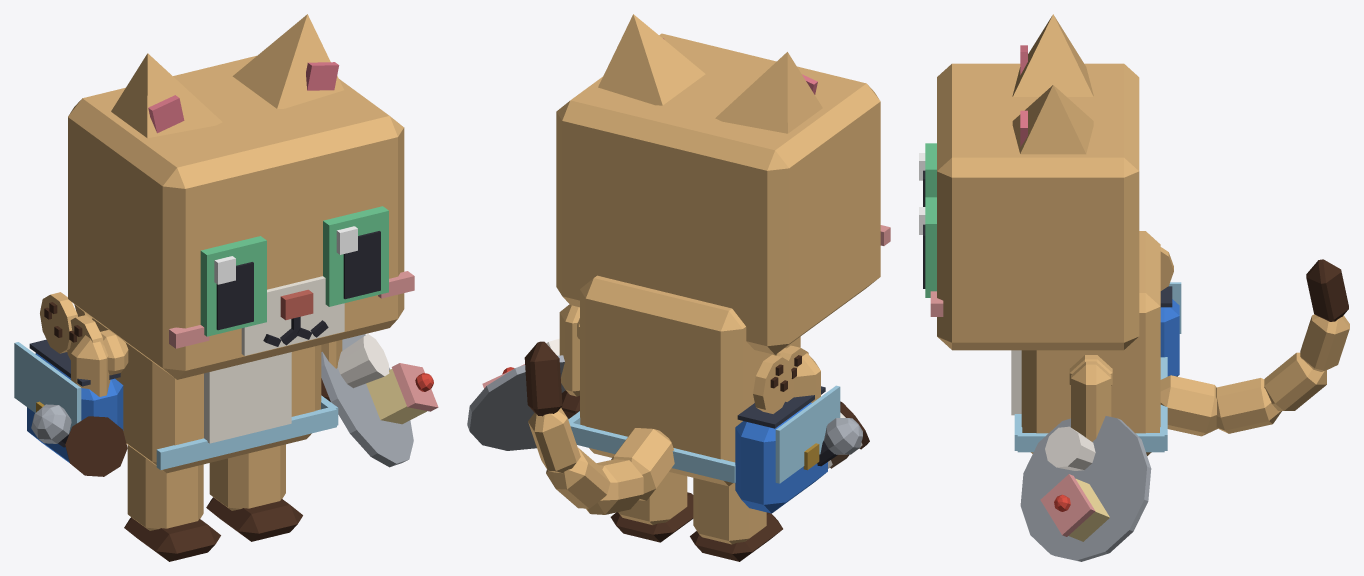
The model's file is CatCafe_Cat_Biscuit_Work.glb.
3 renders of one model, left to right at view 1: azimuth 30°, elevation 25°; view 2: azimuth 150°, elevation 25°; view 3: azimuth 270°, elevation 25°, orthographic. The views are drawn at different scales.
Visible parts, largest first — view 1: CatCafe_Cat_Biscuit_Work_Head, CatCafe_Cat_Biscuit_Work_Body, CatCafe_Cat_Biscuit_Work_Held_Waiter, CatCafe_Cat_Biscuit_Work_LegB2, CatCafe_Cat_Biscuit_Work_LegB1, CatCafe_Cat_Biscuit_Work_Eye2, CatCafe_Cat_Biscuit_Work_Eye1, CatCafe_Cat_Biscuit_Work_EarL, CatCafe_Cat_Biscuit_Work_EarR, CatCafe_Cat_Biscuit_Work_Held_Barista, CatCafe_Cat_Biscuit_Work_LegF2, CatCafe_Cat_Biscuit_Work_Held_Entertainer; view 2: CatCafe_Cat_Biscuit_Work_Head, CatCafe_Cat_Biscuit_Work_Body, CatCafe_Cat_Biscuit_Work_Tail, CatCafe_Cat_Biscuit_Work_EarL, CatCafe_Cat_Biscuit_Work_LegB2, CatCafe_Cat_Biscuit_Work_EarR, CatCafe_Cat_Biscuit_Work_Held_Waiter, CatCafe_Cat_Biscuit_Work_LegB1, CatCafe_Cat_Biscuit_Work_LegF1, CatCafe_Cat_Biscuit_Work_Held_Entertainer, CatCafe_Cat_Biscuit_Work_LegF2; view 3: CatCafe_Cat_Biscuit_Work_Head, CatCafe_Cat_Biscuit_Work_Body, CatCafe_Cat_Biscuit_Work_Held_Waiter, CatCafe_Cat_Biscuit_Work_Tail, CatCafe_Cat_Biscuit_Work_EarL, CatCafe_Cat_Biscuit_Work_EarR, CatCafe_Cat_Biscuit_Work_LegF1, CatCafe_Cat_Biscuit_Work_Eye1, CatCafe_Cat_Biscuit_Work_Eye2.
Part boxes in pixels (x1,y1,x2,y2): CatCafe_Cat_Biscuit_Work_Head: (68,55,414,379); CatCafe_Cat_Biscuit_Work_Body: (14,292,338,473); CatCafe_Cat_Biscuit_Work_Held_Waiter: (321,334,438,467); CatCafe_Cat_Biscuit_Work_LegB2: (124,445,220,561); CatCafe_Cat_Biscuit_Work_LegB1: (206,444,302,541); CatCafe_Cat_Biscuit_Work_Eye2: (200,236,266,336); CatCafe_Cat_Biscuit_Work_Eye1: (323,206,388,306); CatCafe_Cat_Biscuit_Work_EarL: (232,14,343,108); CatCafe_Cat_Biscuit_Work_EarR: (111,53,222,138); CatCafe_Cat_Biscuit_Work_Held_Barista: (65,416,127,476); CatCafe_Cat_Biscuit_Work_LegF2: (71,335,110,396); CatCafe_Cat_Biscuit_Work_Held_Entertainer: (31,404,71,447); CatCafe_Cat_Biscuit_Work_Head: (556,33,890,354); CatCafe_Cat_Biscuit_Work_Body: (568,275,840,513); CatCafe_Cat_Biscuit_Work_Tail: (524,341,674,514); CatCafe_Cat_Biscuit_Work_EarL: (598,14,705,105); CatCafe_Cat_Biscuit_Work_LegB2: (690,478,782,561); CatCafe_Cat_Biscuit_Work_EarR: (715,52,822,133); CatCafe_Cat_Biscuit_Work_Held_Waiter: (467,338,568,450); CatCafe_Cat_Biscuit_Work_LegB1: (610,472,693,542); CatCafe_Cat_Biscuit_Work_LegF1: (559,304,579,418); CatCafe_Cat_Biscuit_Work_Held_Entertainer: (817,418,862,466); CatCafe_Cat_Biscuit_Work_LegF2: (793,353,820,402); CatCafe_Cat_Biscuit_Work_Head: (930,63,1139,350); CatCafe_Cat_Biscuit_Work_Body: (1011,231,1181,455); CatCafe_Cat_Biscuit_Work_Held_Waiter: (1020,416,1151,561); CatCafe_Cat_Biscuit_Work_Tail: (1160,259,1349,436); CatCafe_Cat_Biscuit_Work_EarL: (1012,85,1093,154); CatCafe_Cat_Biscuit_Work_EarR: (1012,14,1093,96); CatCafe_Cat_Biscuit_Work_LegF1: (1071,361,1111,441); CatCafe_Cat_Biscuit_Work_Eye1: (919,197,936,297); CatCafe_Cat_Biscuit_Work_Eye2: (919,143,936,206).
Bounding box in the file's own units: 1.53 × 1.93 × 1.62.
Materials: 1 (1 with a texture image).
